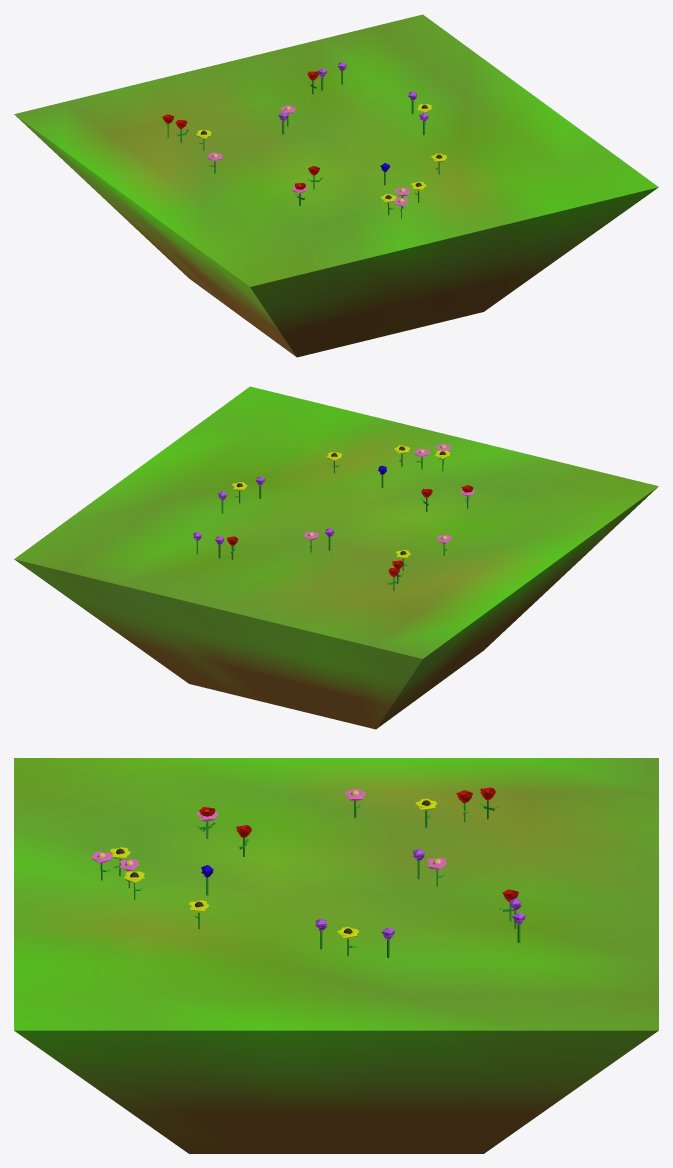
3 views of the same model, one above another, from view 1: azimuth 30°, elevation 25°; view 2: azimuth 150°, elevation 25°; view 3: azimuth 270°, elevation 25° (orthographic). The views are drawn at different scales.
Parts seen in each view (by area): view 1: Base.001; view 2: Base.001; view 3: Base.001.
Boxes of the visible parts, x1,y1,x2,y2 form: Base.001: [14, 14, 658, 357]; Base.001: [14, 386, 658, 729]; Base.001: [14, 758, 658, 1153].
Size of the model in its own units: 14.36 by 5.58 by 14.36.
